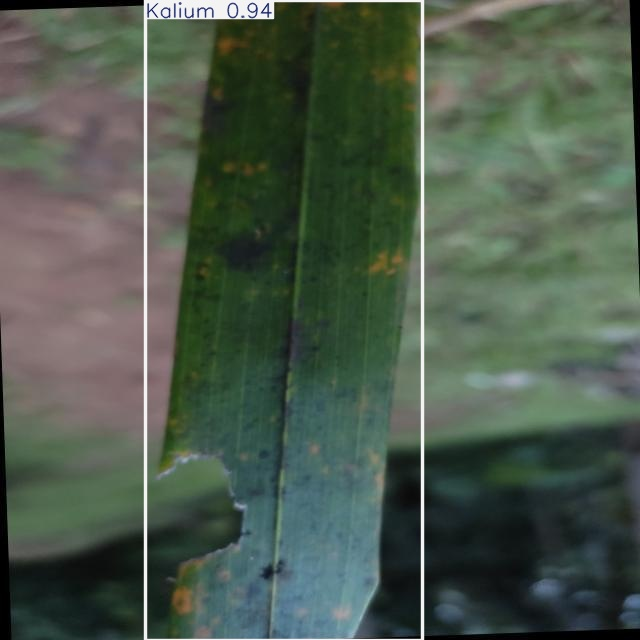Kalium: (146, 0, 423, 640)
